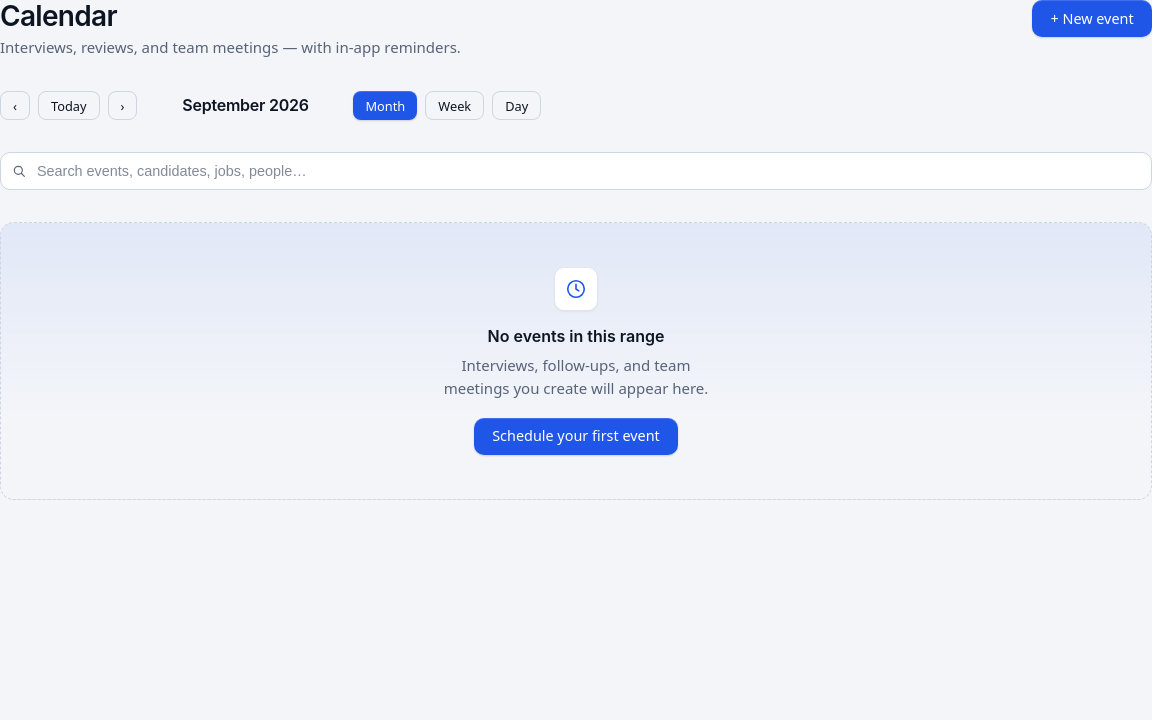
Scenario: CalendarPage › filters the attendee popover by name or email as the user types
Check: the text "No events in this range" is shown, box [488,324,664,349]
Click the button "+ New event".
click(1092, 19)  # box [1032,0,1151,37]
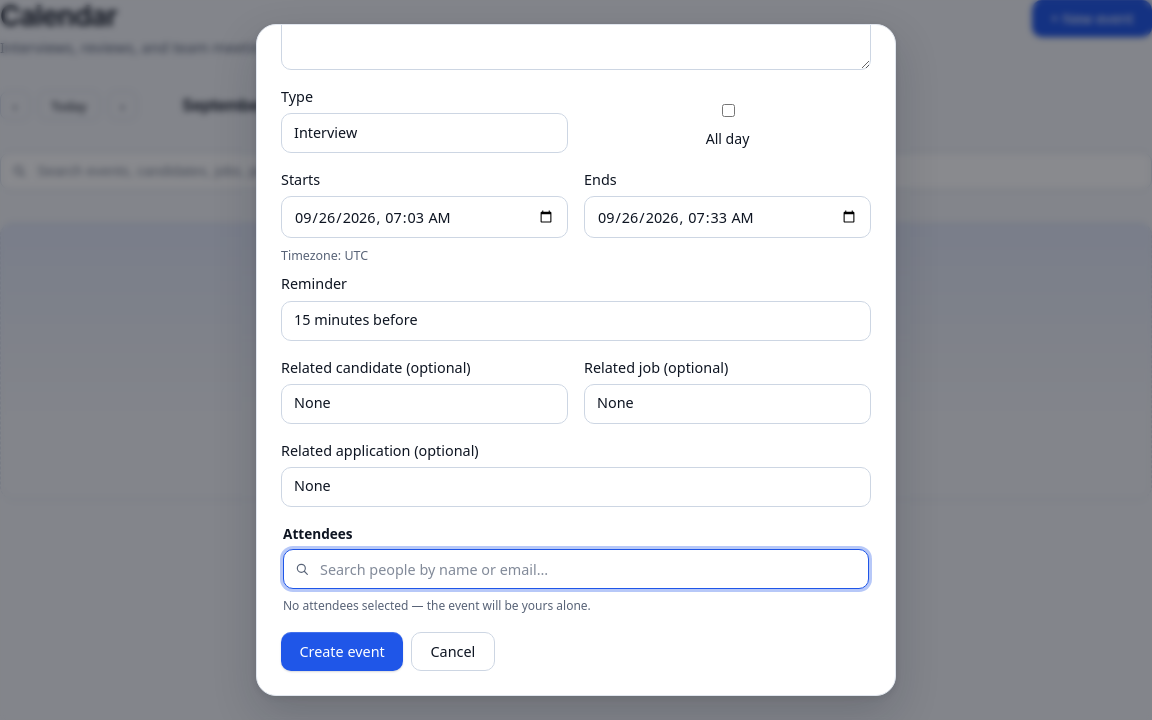
Click the dropdown named "Search attendees".
click(576, 569)  # box [283,549,869,589]
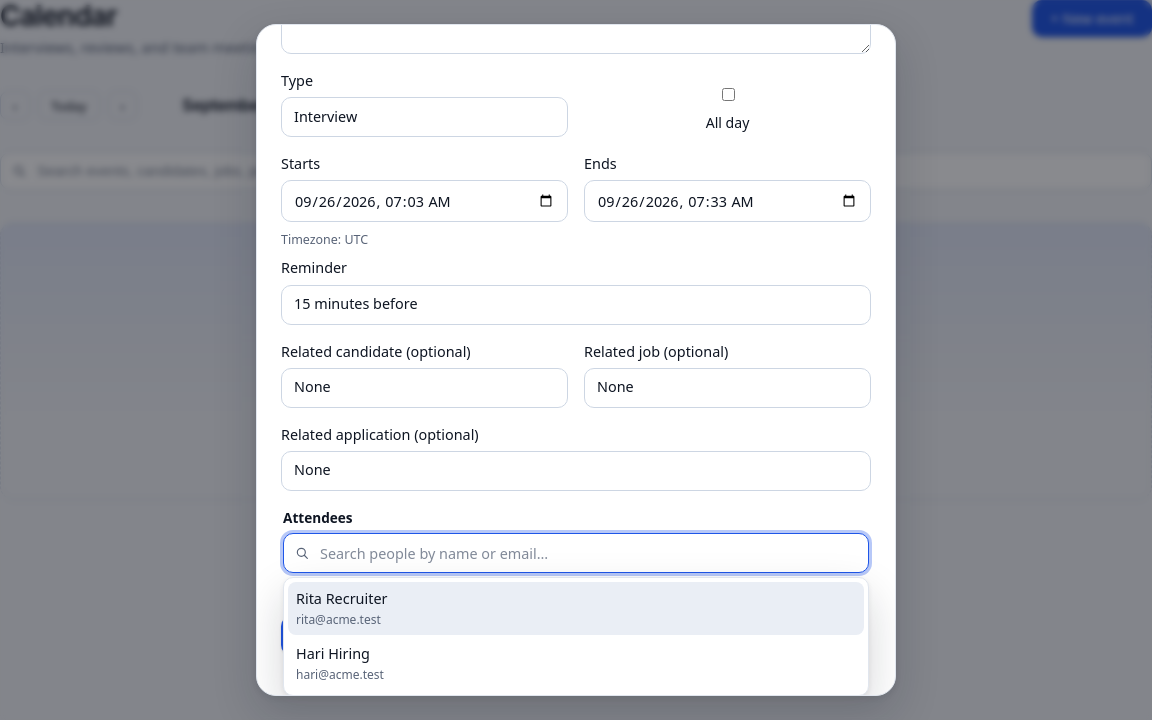
Check: the list is shown, box [283,577,869,696]
Type "hari@acme" into the dropdown named "Search attendees".
click(576, 553); type("hari@acme")  # box [283,533,869,573]
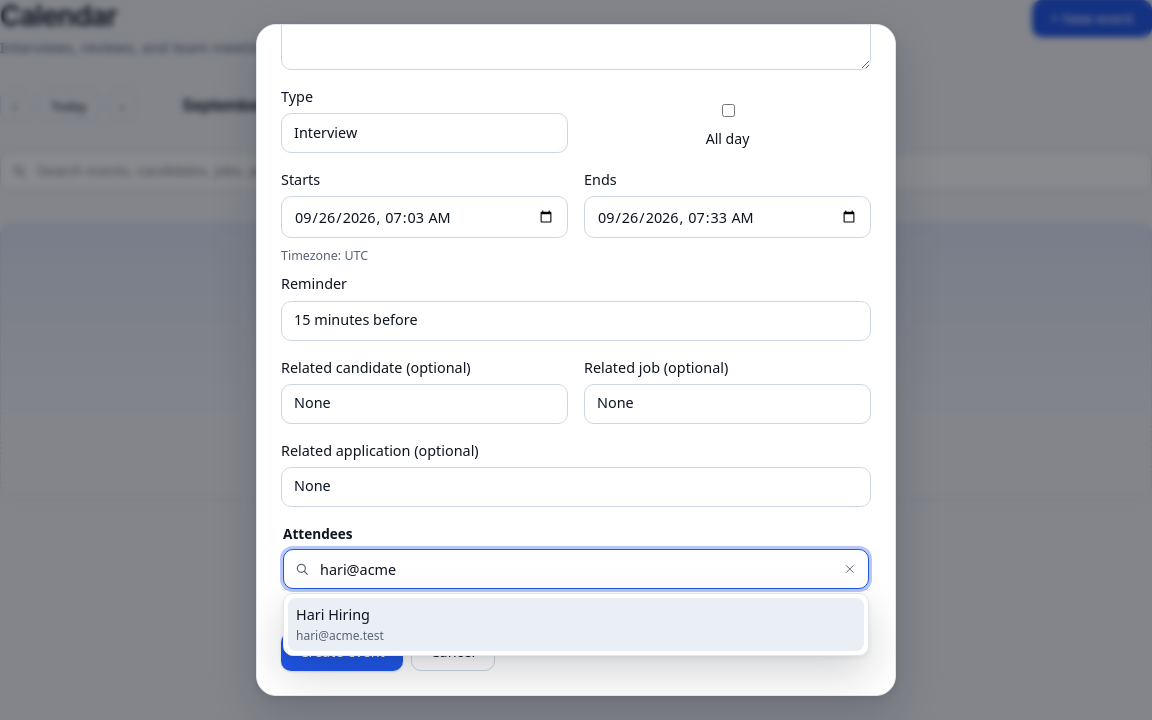
Check: the option "Hari Hiring hari@acme.test" is shown, box [288,598,864,651]
Check: the option "Rita Recruiter" is gone
Replace the text in the dropdown named "Search attendees" with "Rita" at (576, 569), box [283,549,869,589]
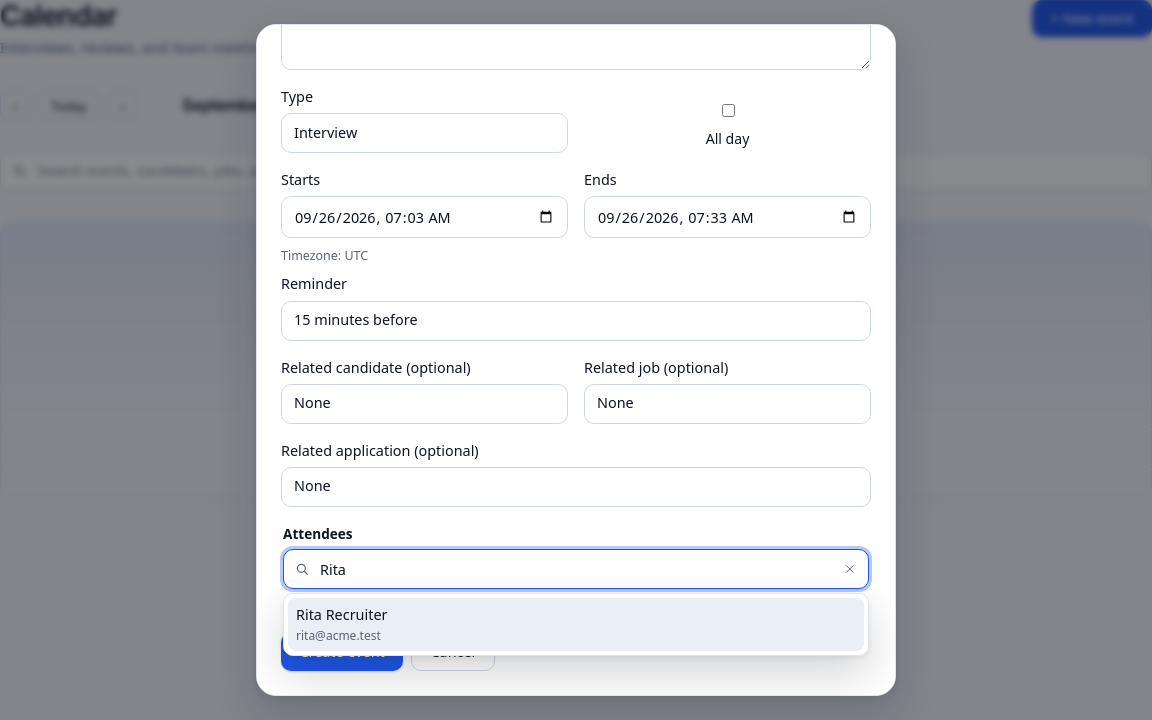
Check: the option "Rita Recruiter rita@acme.test" is shown, box [288,598,864,651]
Check: the option "Hari Hiring" is gone
Replace the text in the dropdown named "Search attendees" with "nobody" at (576, 569), box [283,549,869,589]
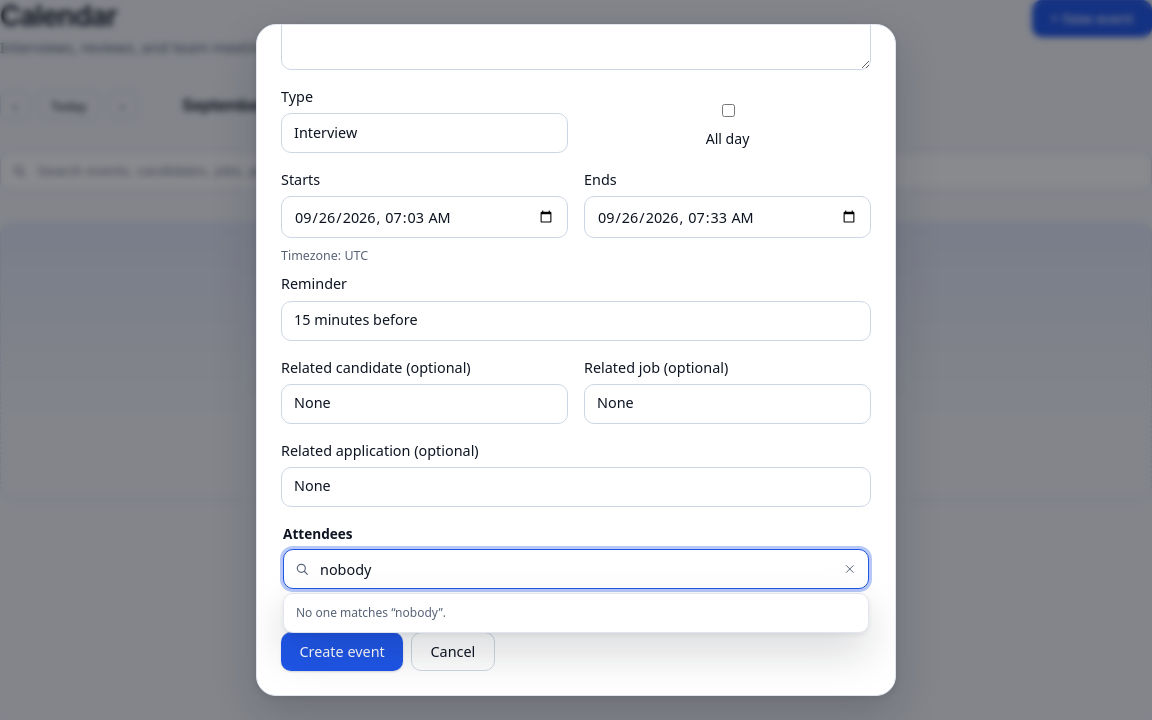
Check: the list item "No one matches “nobody”." is shown, box [296,604,446,621]
